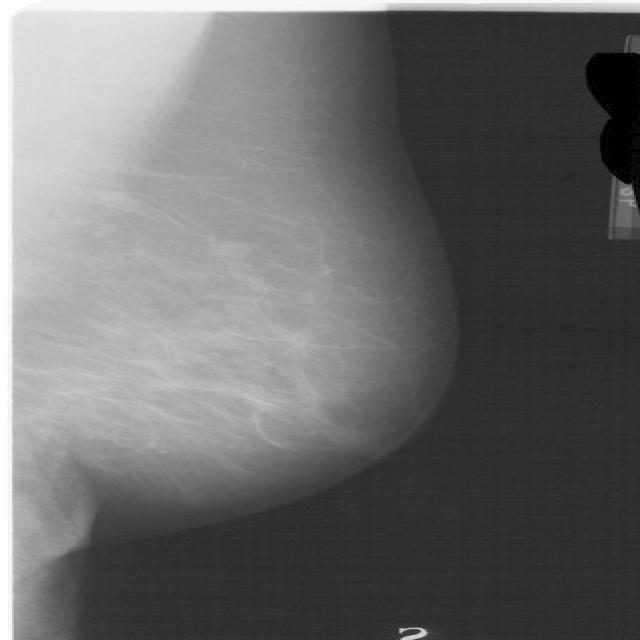tumour: (92, 186, 147, 210)
